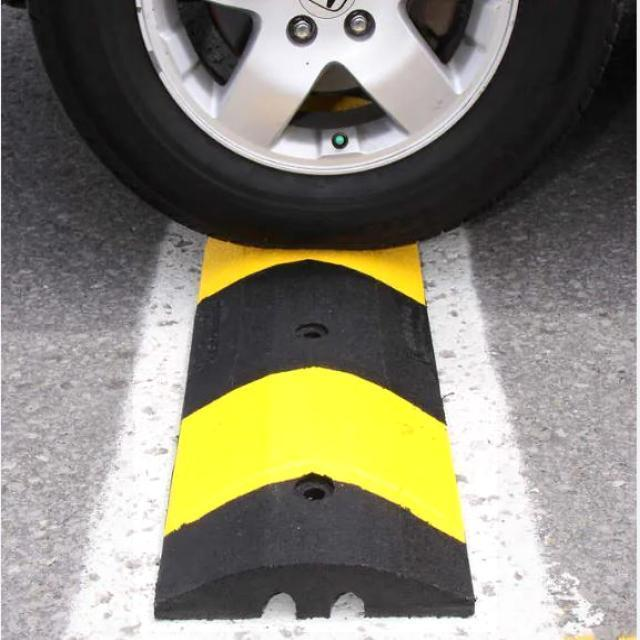Marked Bump: (155, 233, 480, 612)
